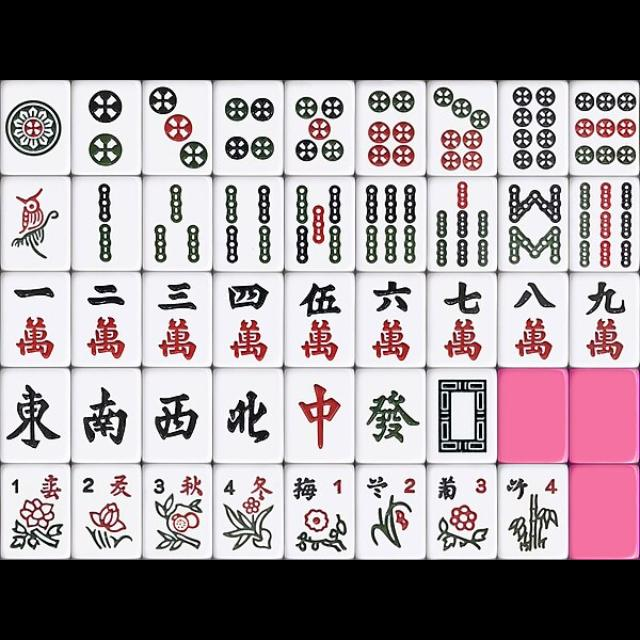b1: (4, 180, 68, 268)
b2: (74, 178, 140, 268)
b3: (145, 180, 211, 270)
b4: (214, 179, 284, 271)
b5: (286, 180, 354, 270)
b6: (358, 180, 426, 270)
b7: (429, 180, 497, 270)
b8: (499, 178, 566, 272)
b9: (572, 175, 638, 272)
c1: (2, 274, 70, 366)
c2: (145, 274, 211, 366), (74, 275, 140, 365)
c4: (215, 276, 283, 366)
c5: (288, 274, 354, 366)
c6: (358, 275, 424, 365)
c7: (429, 274, 495, 366)
c8: (499, 276, 567, 366)
c9: (570, 274, 638, 366)
d1: (4, 83, 68, 173)
d2: (74, 81, 140, 172)
d3: (146, 81, 212, 172)
d4: (215, 84, 283, 172)
d5: (287, 83, 355, 173)
d6: (358, 81, 424, 173)
d7: (429, 82, 495, 174)
d8: (499, 81, 567, 173)
d9: (570, 81, 640, 172)
dg: (357, 372, 425, 460)
dr: (286, 372, 354, 460)
dw: (429, 370, 495, 460)
f1: (288, 468, 354, 500)
f2: (356, 467, 424, 497)
f3: (428, 466, 494, 500)
f4: (500, 468, 566, 500)
s1: (1, 466, 71, 504)
s2: (72, 466, 142, 500)
s3: (142, 467, 212, 499)
s4: (215, 468, 282, 500)
we: (1, 372, 69, 462)
wn: (214, 368, 282, 462)
ws: (72, 371, 140, 462)
ww: (144, 372, 212, 461)
